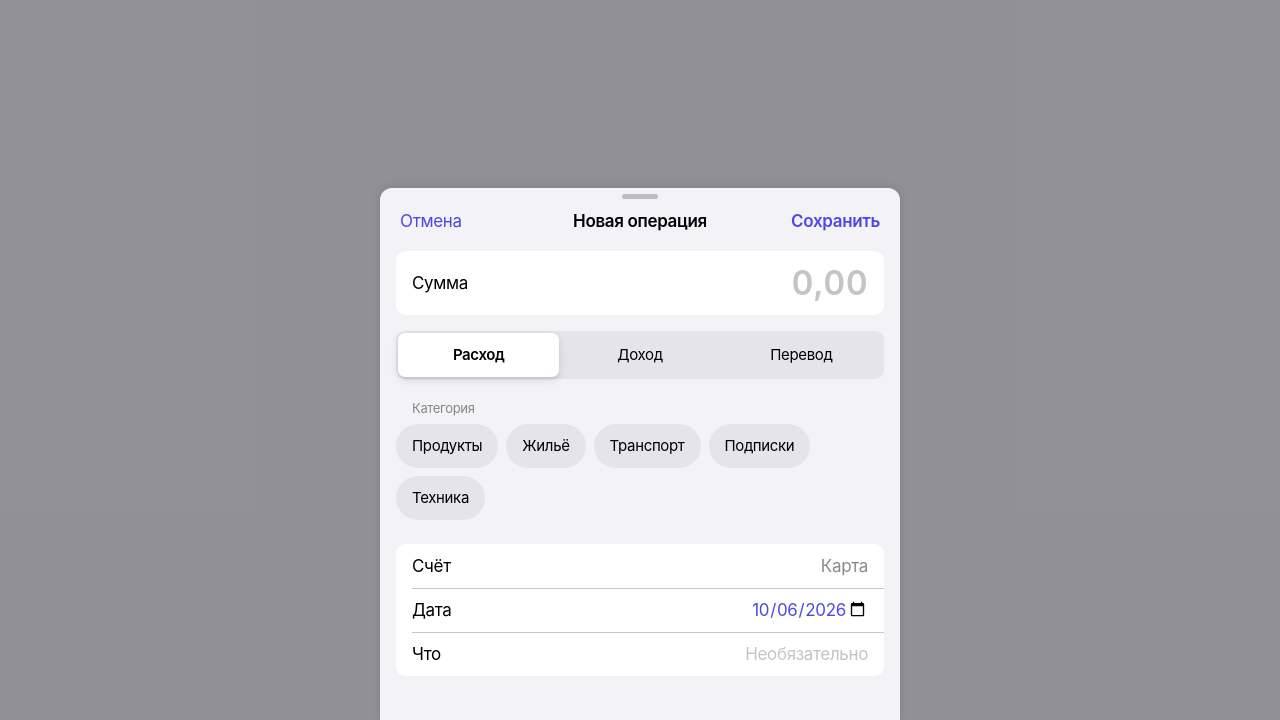
Test: OperationForm — new operation › a mistyped amount keeps saving disabled
Type "0,125" into the field labelled "Сумма" at point(674, 283), box [480,251,868,315]
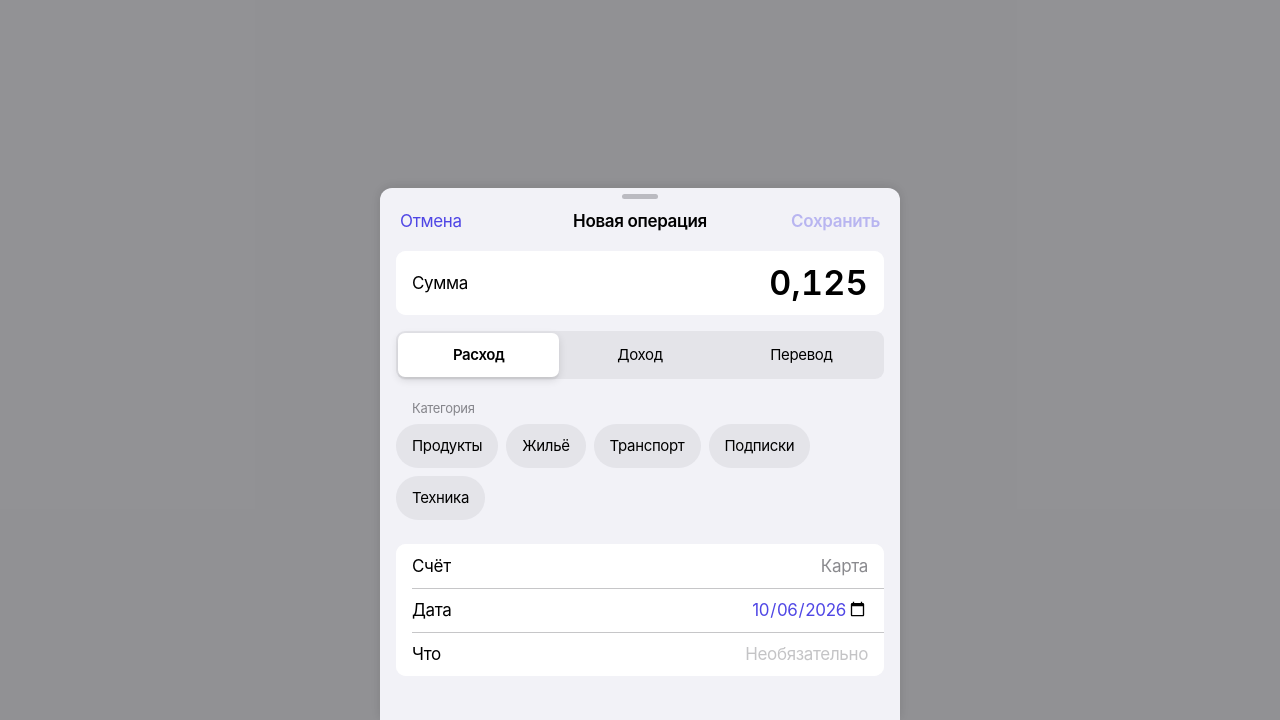
Check: the button "Сохранить" is disabled, box [779,199,892,243]
Replace the text in the field labelled "Сумма" with "0,12" at point(674, 283), box [480,251,868,315]
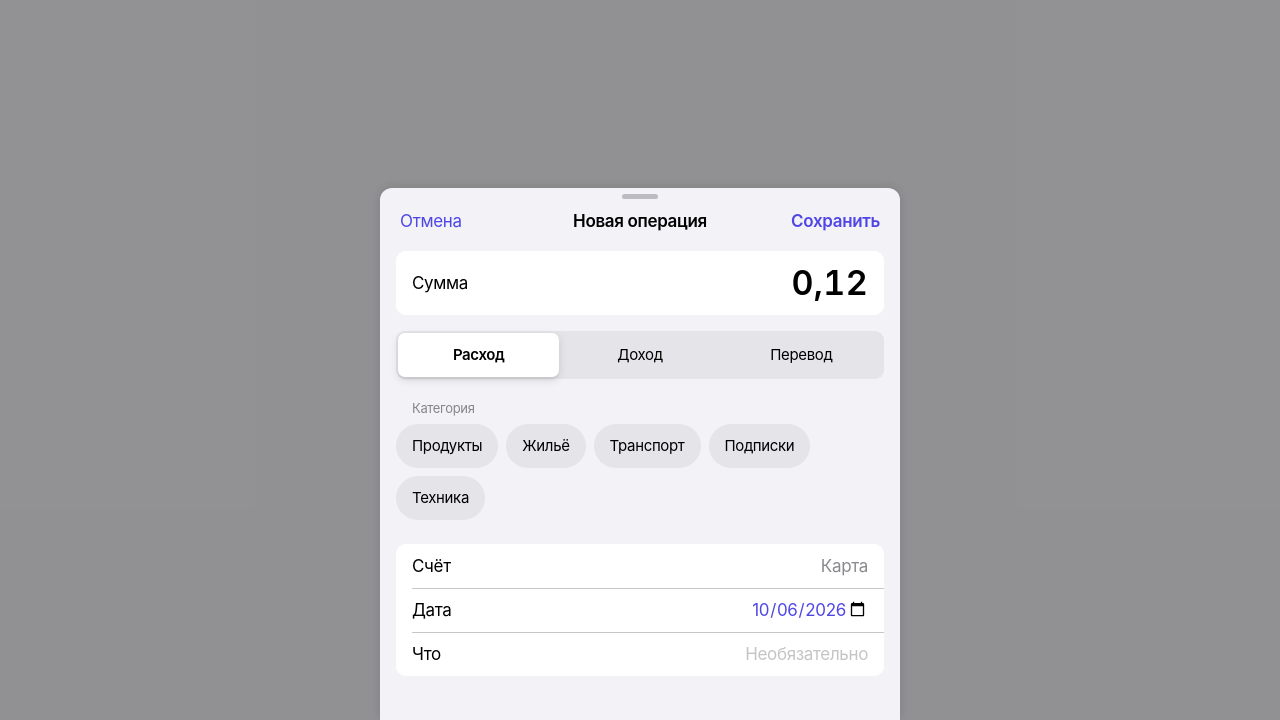
Check: the button "Сохранить" is enabled, box [779,199,892,243]
